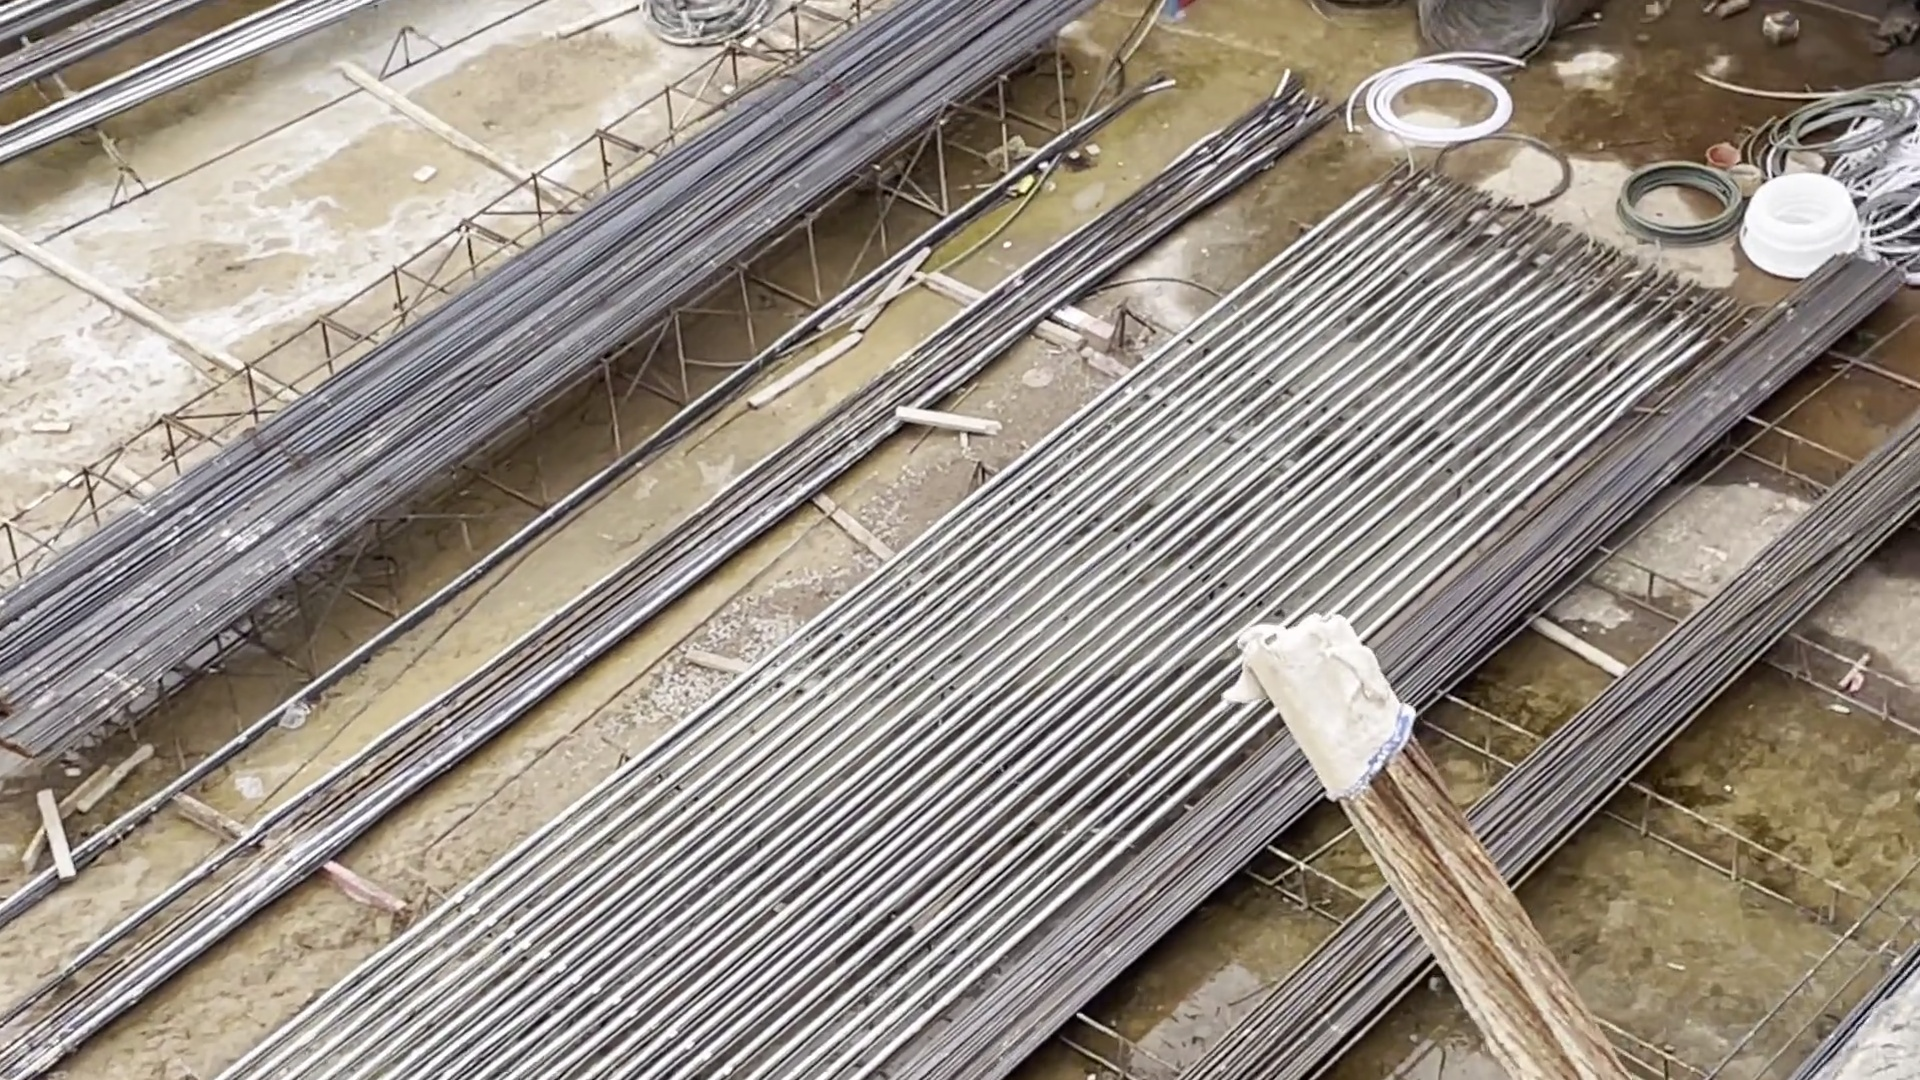rebar: (882, 253, 1920, 1080), (1, 196, 814, 789), (595, 1, 1085, 193)
